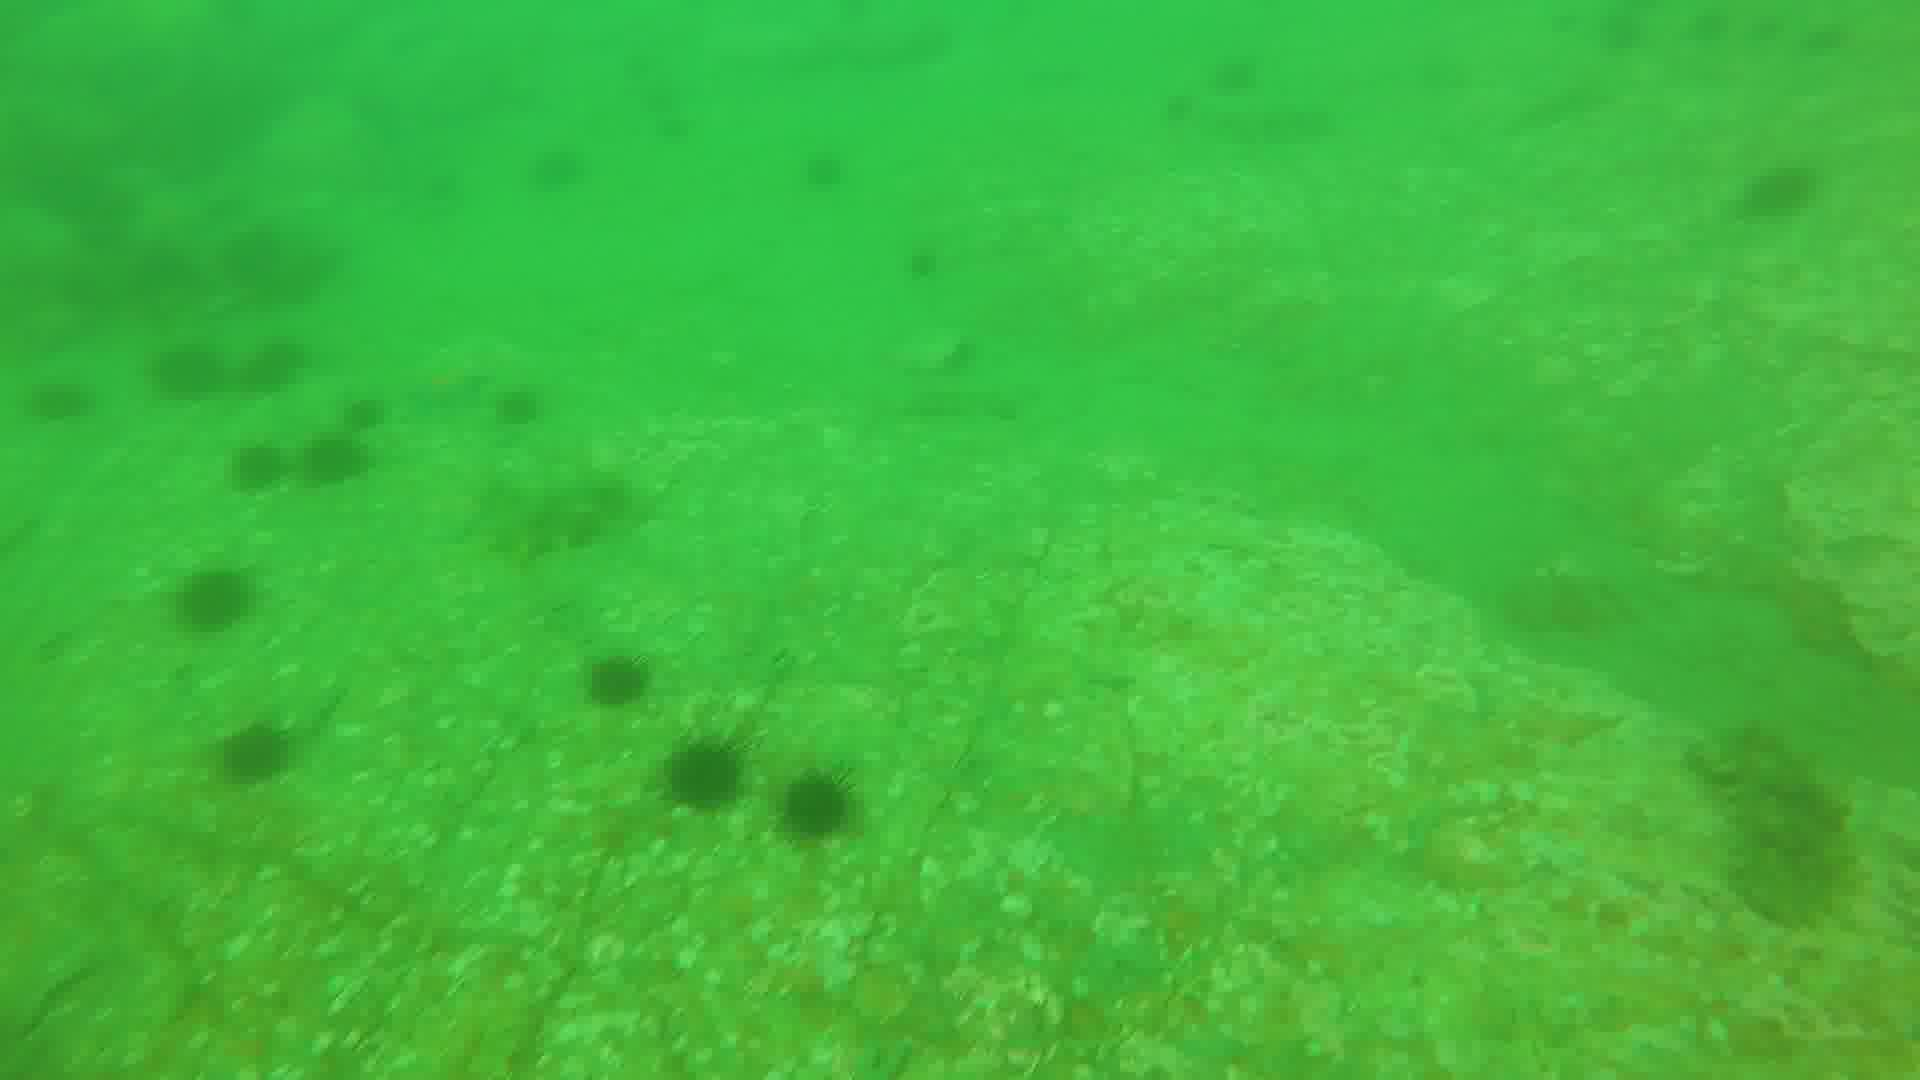echinus: (665, 740, 753, 808), (775, 773, 858, 839), (1714, 171, 1826, 216), (222, 720, 301, 782), (294, 433, 371, 488), (152, 344, 229, 398), (183, 571, 249, 632), (237, 343, 311, 394), (585, 655, 655, 708), (22, 371, 92, 419), (229, 442, 294, 487), (525, 146, 587, 190), (795, 156, 852, 193), (342, 396, 394, 435)
holothurian: (1683, 729, 1854, 923), (479, 467, 636, 568)
starfish: (406, 367, 493, 421)
